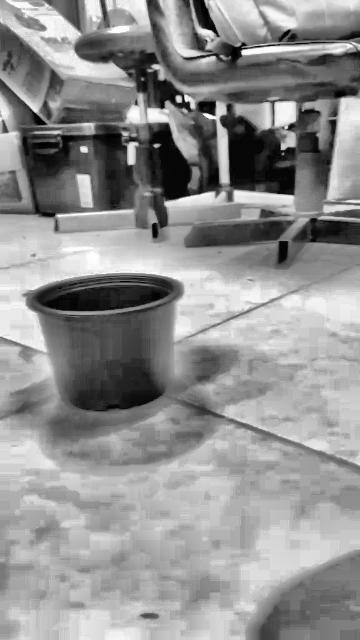pot: (31, 273, 180, 411)
